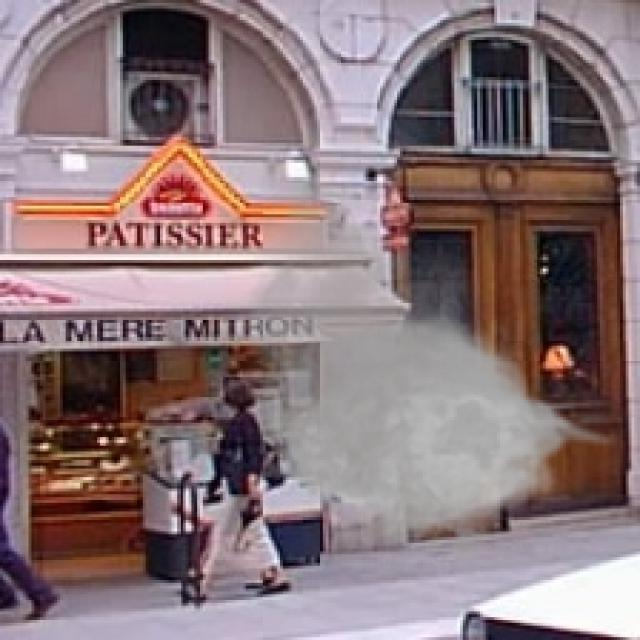Smoke: (226, 168, 623, 580)
